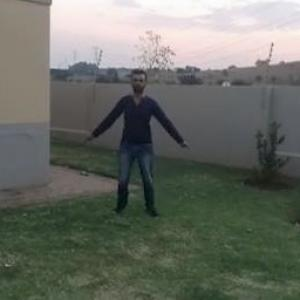land: (86, 67, 205, 219)
